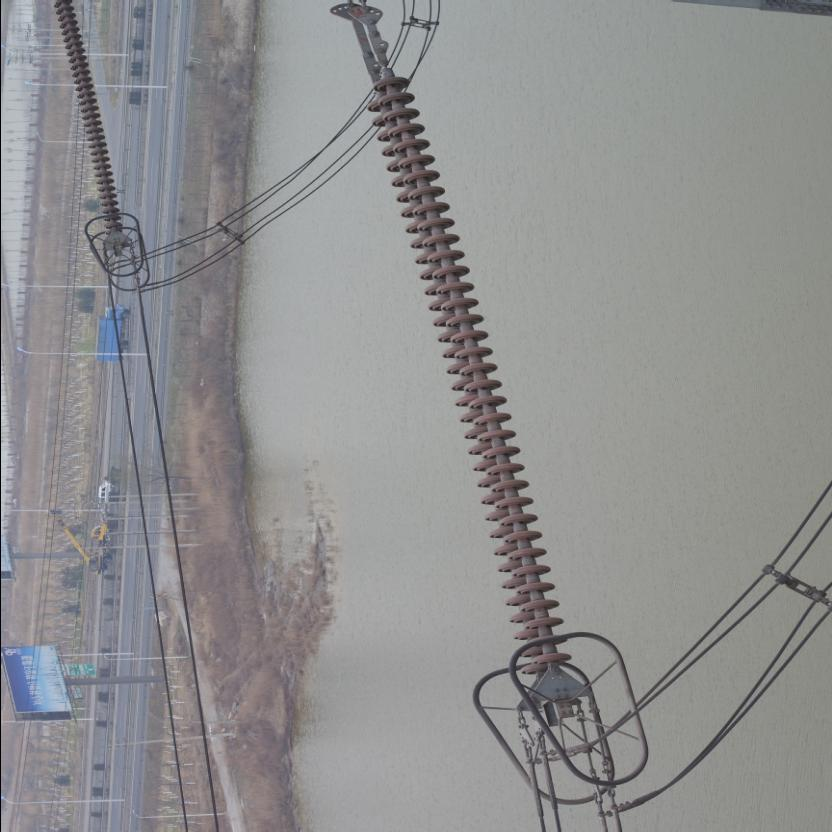insulator: (355, 41, 573, 680), (45, 0, 125, 237)
